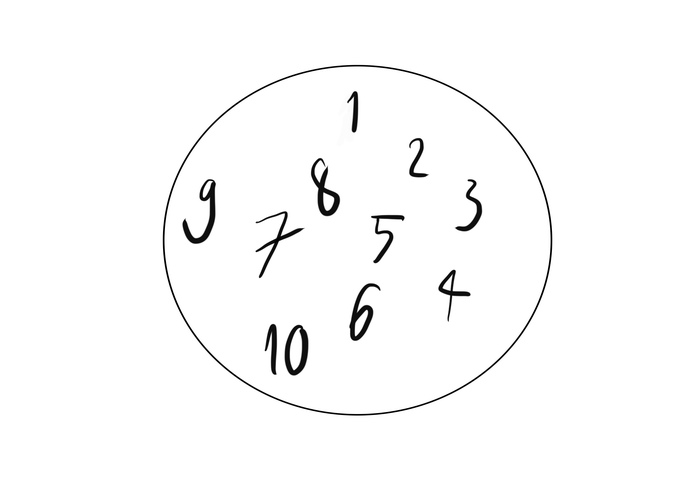eight: (309, 152, 343, 219)
five: (371, 210, 405, 263)
four: (435, 260, 475, 322)
nine: (184, 173, 224, 246)
one: (342, 86, 363, 136)
seven: (246, 205, 305, 279)
six: (350, 278, 379, 341)
ten: (262, 314, 309, 377)
three: (450, 173, 484, 240)
two: (404, 136, 432, 181)
